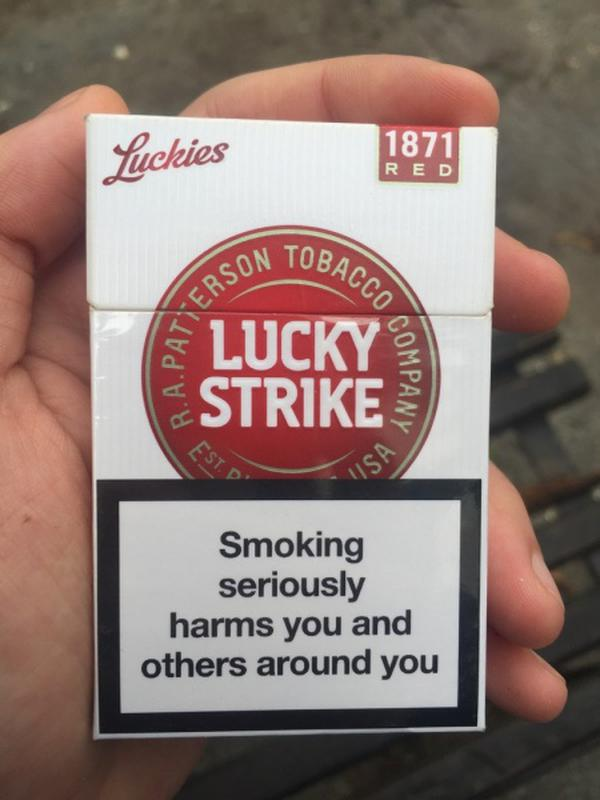lucky_strike_red: (88, 116, 488, 734)
